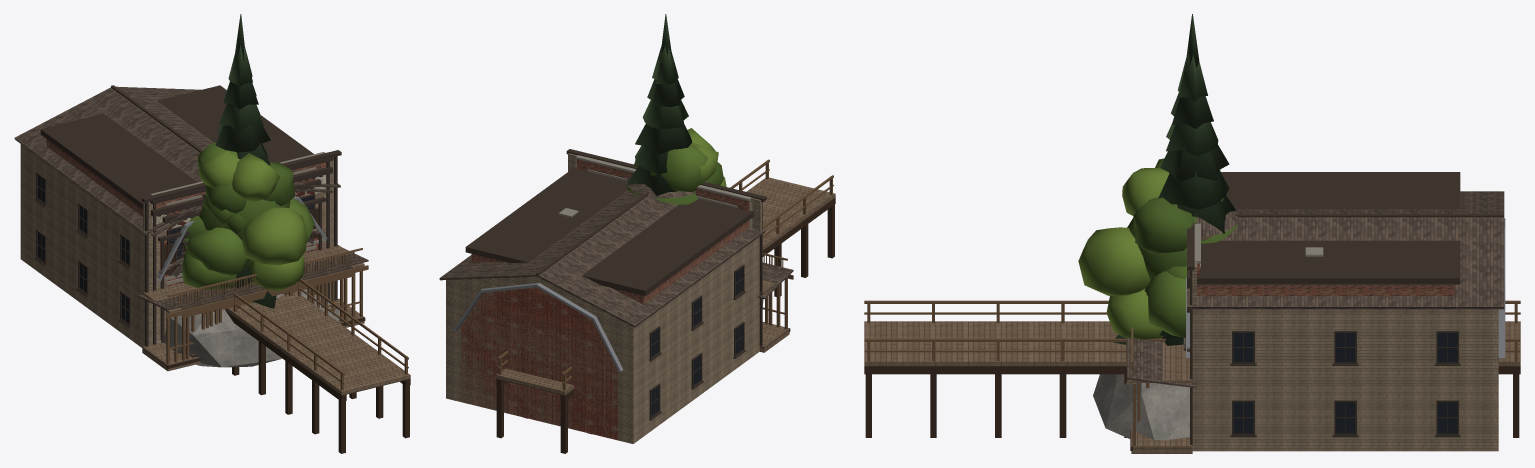
File: props.glb
The picture shows the model from 3 angles, left to right: view 1: azimuth 30°, elevation 25°; view 2: azimuth 150°, elevation 25°; view 3: azimuth 270°, elevation 25°; orthographic projection. The views are drawn at different scales.
Visible parts, largest first — view 1: Saloon, Bank, Bridge, Oak1, Hotel, Pine3, Boulder, Oak2, Store, Livery, Sheriff, Gunsmith (+1 smaller); view 2: Saloon, Bank, Barn, Bridge, Pine3, Oak1, Store, WaterTower; view 3: Saloon, Bank, Bridge, Oak1, Pine3, Boulder, Oak2, Barn, Hotel.
Boxes of the visible parts, x1,y1,x2,y2 form: Saloon: (14, 85, 368, 371); Bank: (40, 85, 356, 366); Bridge: (225, 279, 410, 453); Oak1: (186, 142, 314, 275); Hotel: (150, 157, 360, 362); Pine3: (215, 14, 276, 308); Boulder: (164, 289, 339, 367); Oak2: (182, 198, 304, 291); Store: (162, 167, 348, 366); Livery: (158, 197, 352, 367); Sheriff: (179, 252, 332, 329); Gunsmith: (181, 241, 329, 328); Saloon: (439, 149, 793, 443); Bank: (465, 155, 753, 304); Barn: (453, 283, 623, 440); Bridge: (496, 159, 835, 453); Pine3: (626, 14, 692, 195); Oak1: (627, 128, 726, 204); Store: (587, 169, 773, 328); WaterTower: (626, 174, 695, 198); Saloon: (1127, 191, 1504, 453); Bank: (1130, 172, 1460, 442); Bridge: (864, 300, 1520, 437); Oak1: (1078, 158, 1237, 337); Pine3: (1113, 14, 1236, 345); Boulder: (1093, 374, 1189, 440); Oak2: (1106, 266, 1186, 339); Barn: (1186, 218, 1505, 358); Hotel: (1127, 342, 1189, 379).
Size of the model in its own units: 12.9 by 20.35 by 30.
Materials: 44 (10 with a texture image).
